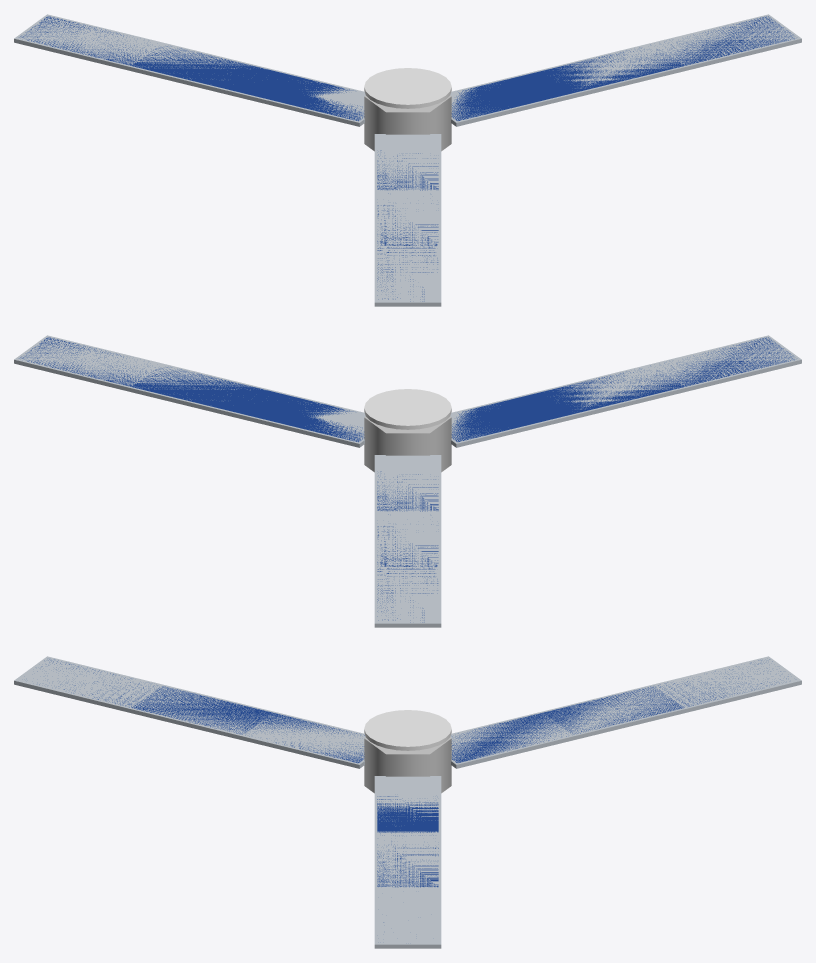
File: juno.glb
3 views of the same model, one above another, from view 1: azimuth 30°, elevation 25°; view 2: azimuth 150°, elevation 25°; view 3: azimuth 270°, elevation 25° (orthographic).
Visible parts, largest first — view 1: panel (×9), juno; view 2: panel (×9), juno; view 3: panel (×9), juno.
Boxes of the visible parts, x1,y1,x2,y2 form: panel (×9): (14,14,801,306); juno: (364,68,451,151); panel (×9): (14,335,801,627); juno: (364,389,451,472); panel (×9): (14,656,801,948); juno: (364,710,451,793).
Bounding box in the file's own units: 7.8 × 0.725 × 9.01.
